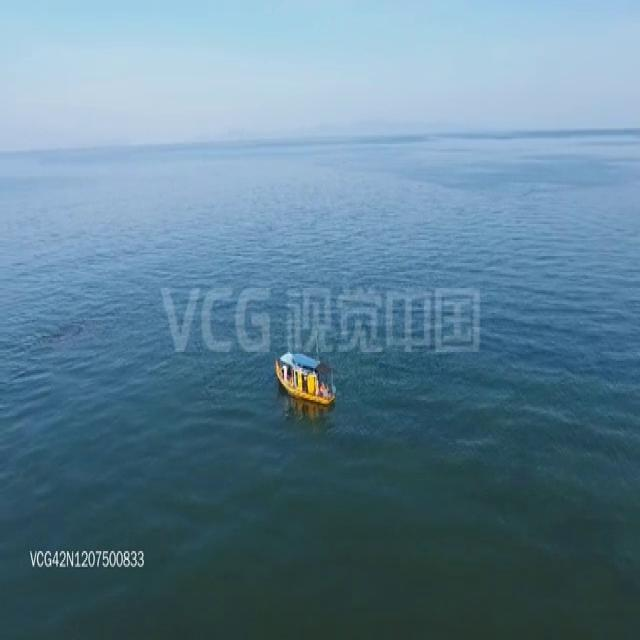fishing boat: (268, 342, 345, 417)
